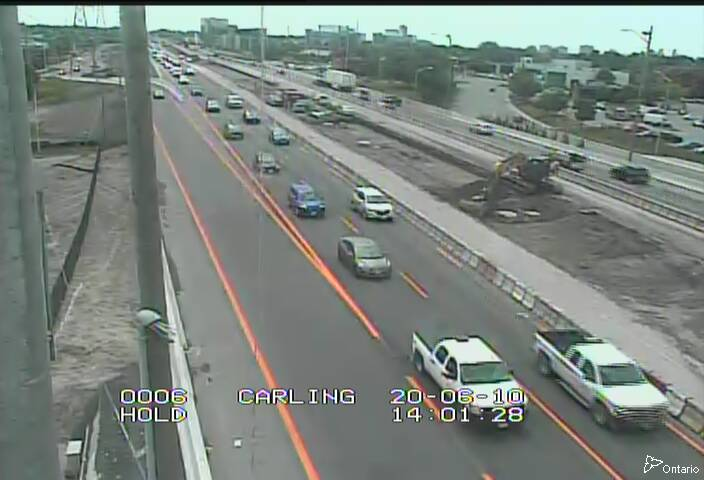time_stamp: (386, 405, 532, 428), (388, 384, 528, 406)
